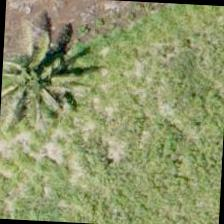Kelapa_Sawit: (0, 37, 73, 131)
